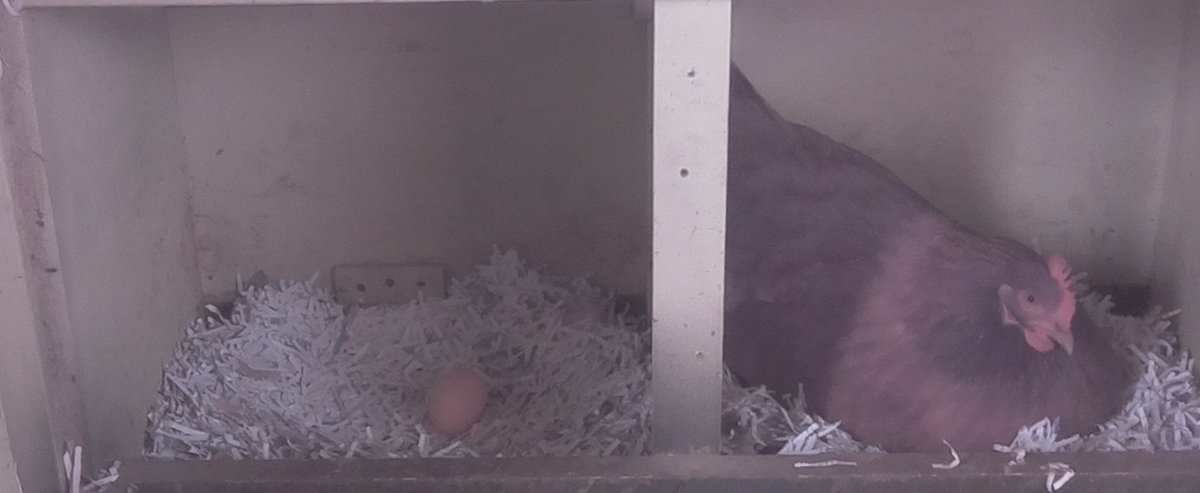egg: (424, 365, 490, 442)
hen: (731, 72, 1135, 447)
